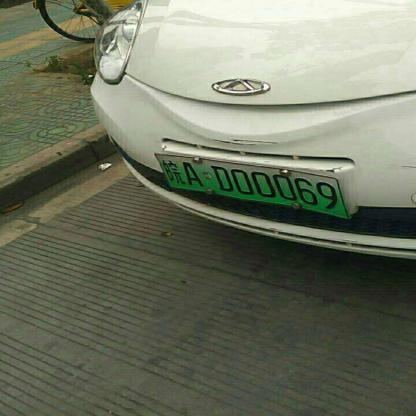lp: (155, 153, 345, 219)
